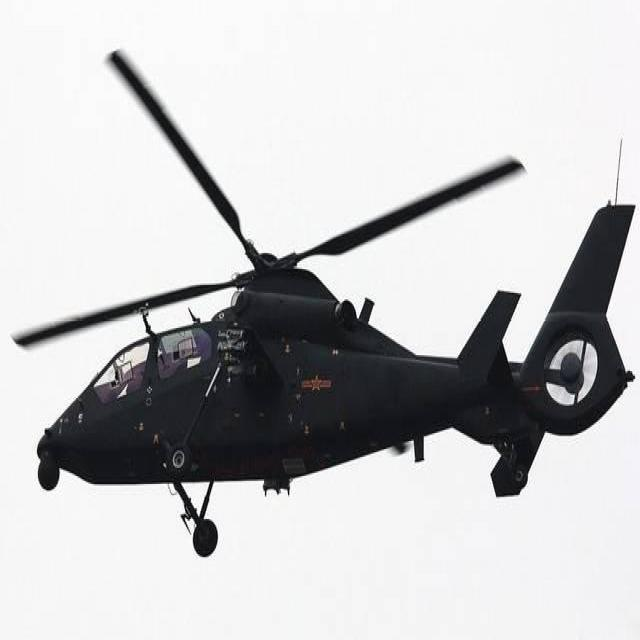MIL_HELO: (16, 36, 625, 569)
